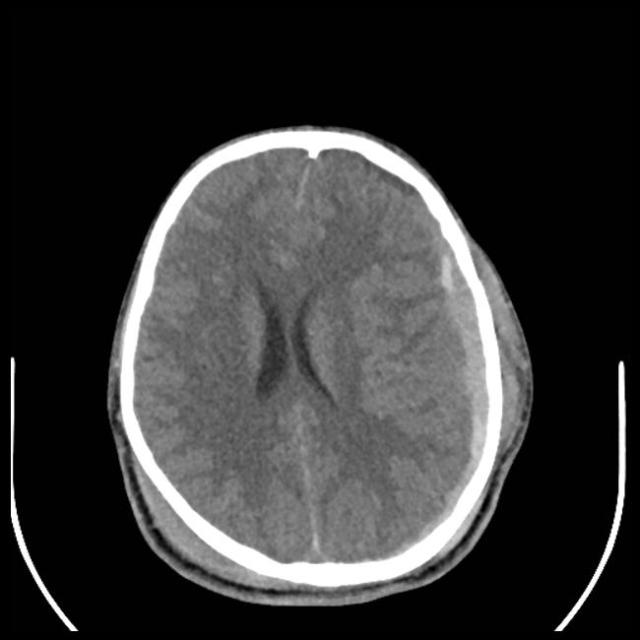lesion: (103, 122, 535, 605)
